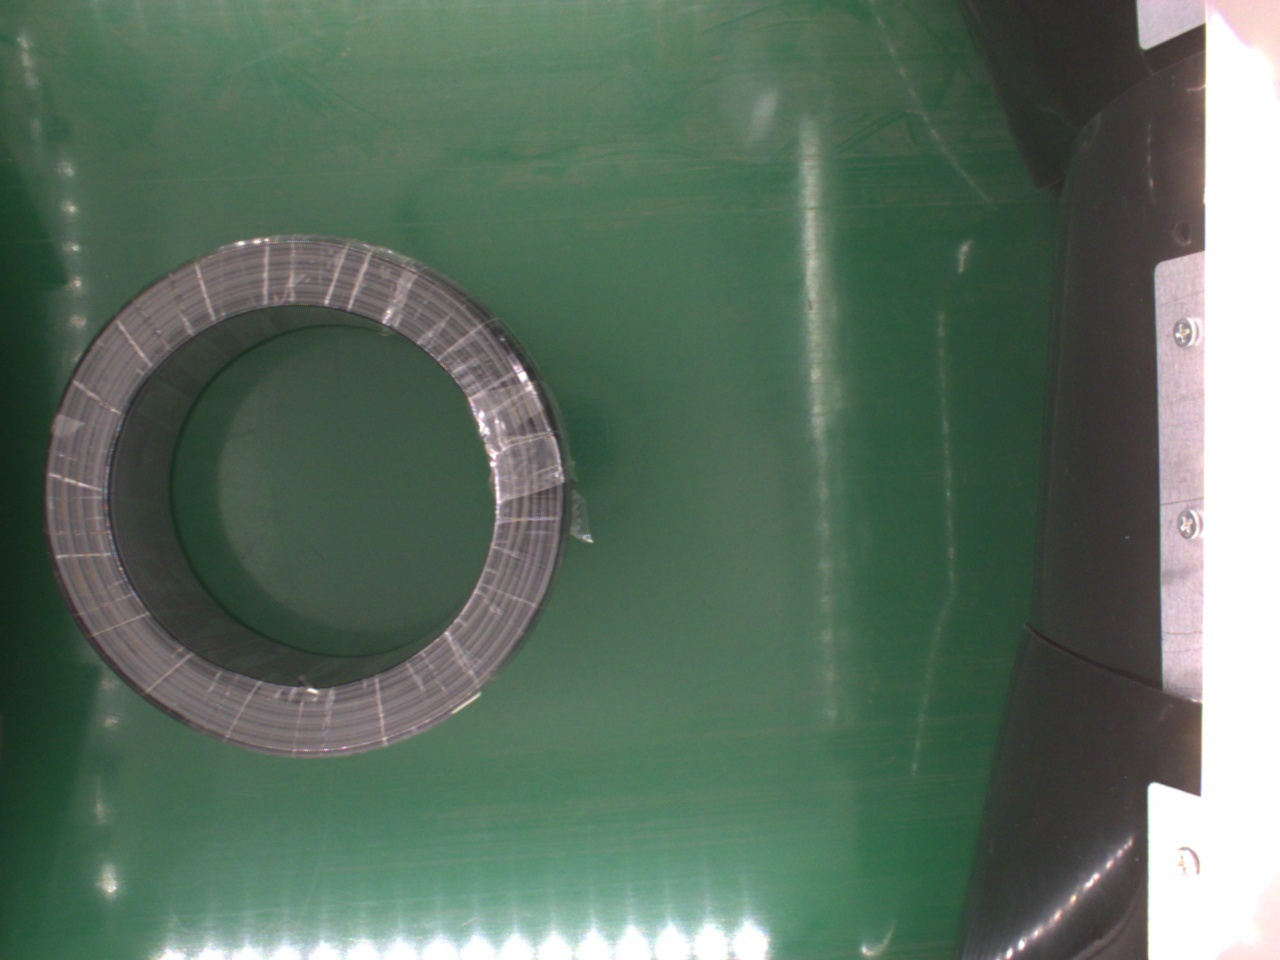black: (40, 233, 572, 765)
